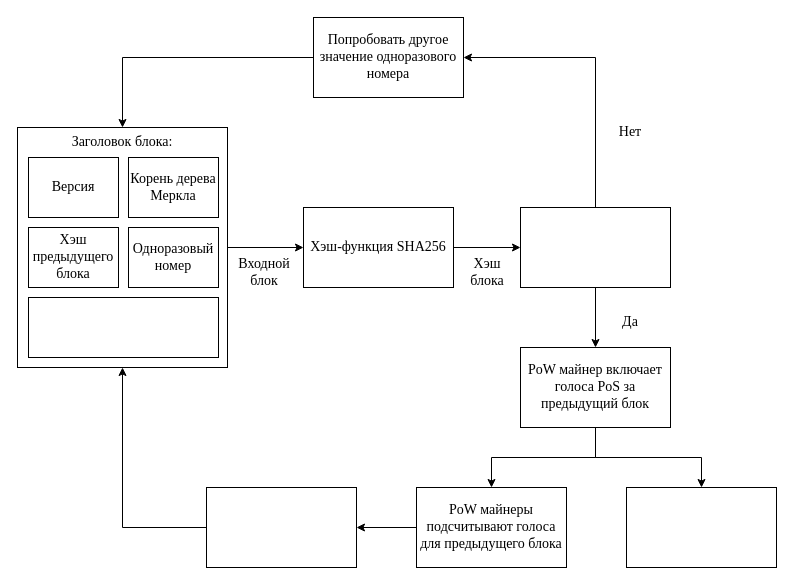
Some shapes in this 794 by 585 pixel diagram are drawn without their labels. Each missing label, with the centre of its shape:
"PoS майнеры создают транзакцию-голос для текущего блока" goes at point 701,527.
"PoW майнеры начинают майнить следующий блок" goes at point 281,527.
"Отметка времени" goes at point 123,327.
"Хэш блока удовлетворяет требованиям ?" goes at point 595,247.
